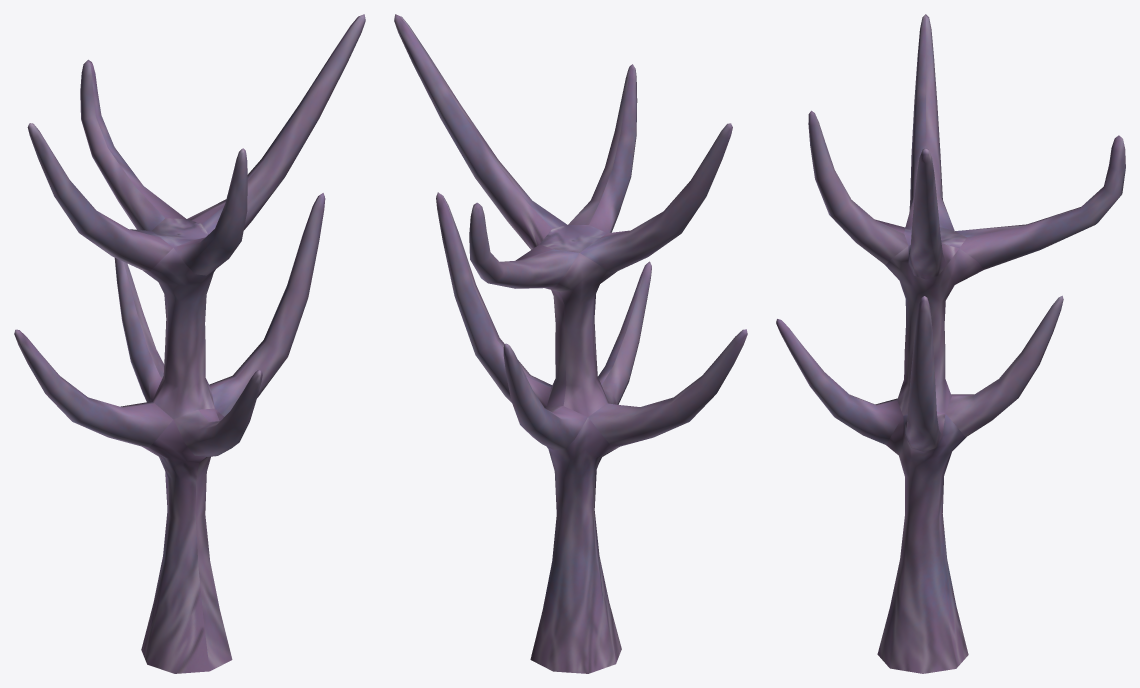
File: Arvore3-Tronco.fbx
The picture shows the model from 3 angles, left to right: view 1: azimuth 30°, elevation 25°; view 2: azimuth 150°, elevation 25°; view 3: azimuth 270°, elevation 25°; orthographic projection.
Parts seen in each view (by area): view 1: LOD_0; view 2: LOD_0; view 3: LOD_0.
Part boxes in pixels (box(x1,y1,x2,y2)): LOD_0: box(14, 14, 365, 673); LOD_0: box(394, 14, 747, 673); LOD_0: box(776, 14, 1125, 673).
Size of what is drawn, in the model's own units: 585 by 948 by 507.
